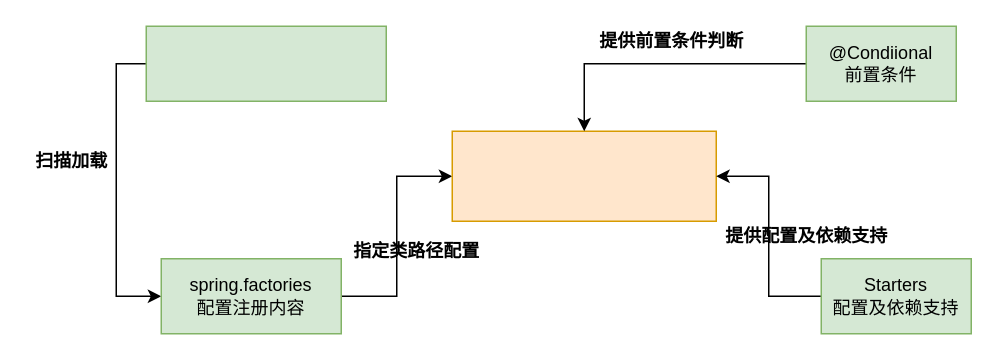
This 998x360 diagram has some shape labels left out. The box of each missing label's shape, as (x1, y1, x2, y2) in pixels:
@EnableAutoConfiguration 开启自动装配功能: (145, 25, 386, 101)
XXXAutoConfiguration 具体自动配置的类: (451, 130, 716, 221)
